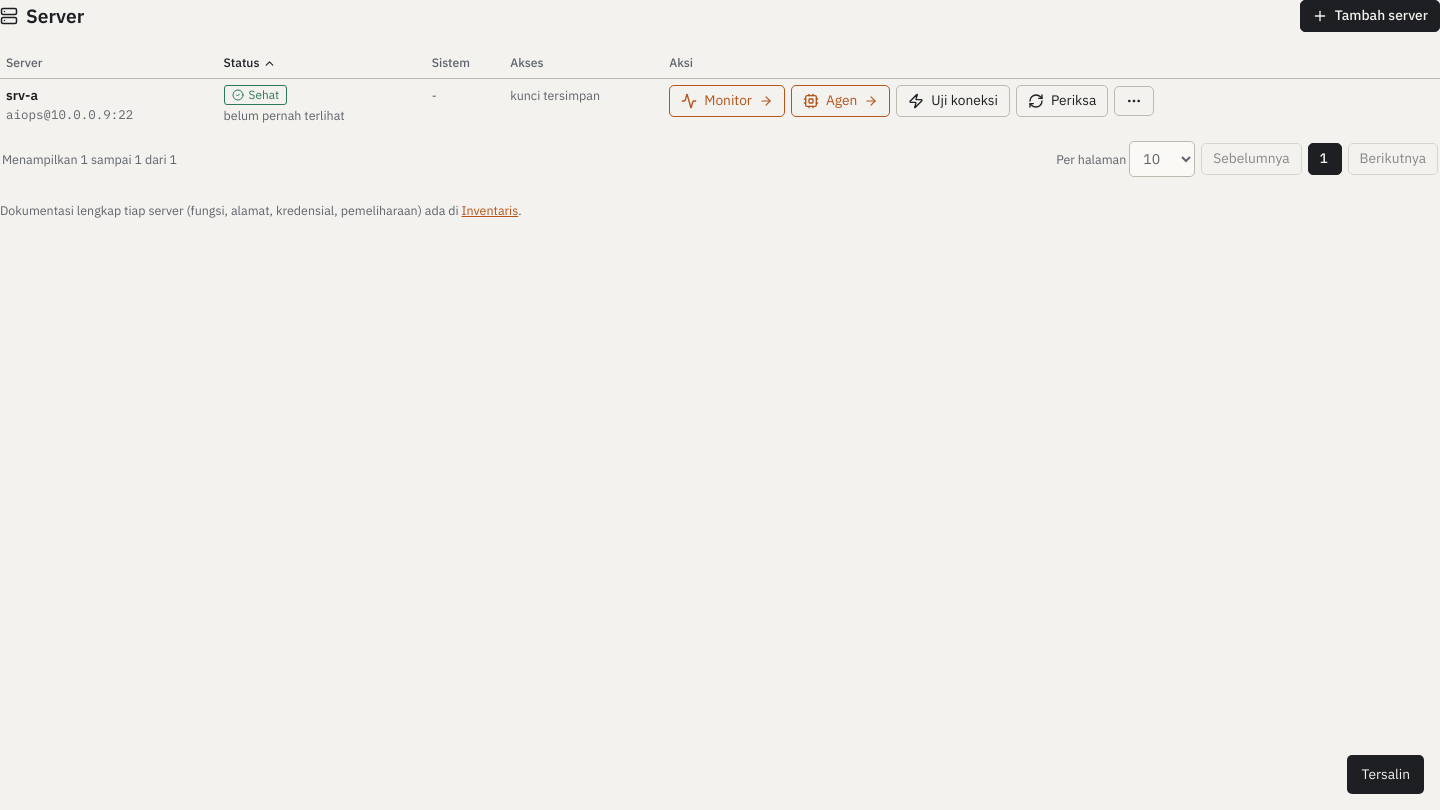
Scenario: uji koneksi gagal › galat yang dikenali menampilkan penyebab dan saran, dan menawarkan panduan
Step 1. Click the button "Uji koneksi" → {"x": 953, "y": 101}, box x1=896 y1=85 x2=1010 y2=117
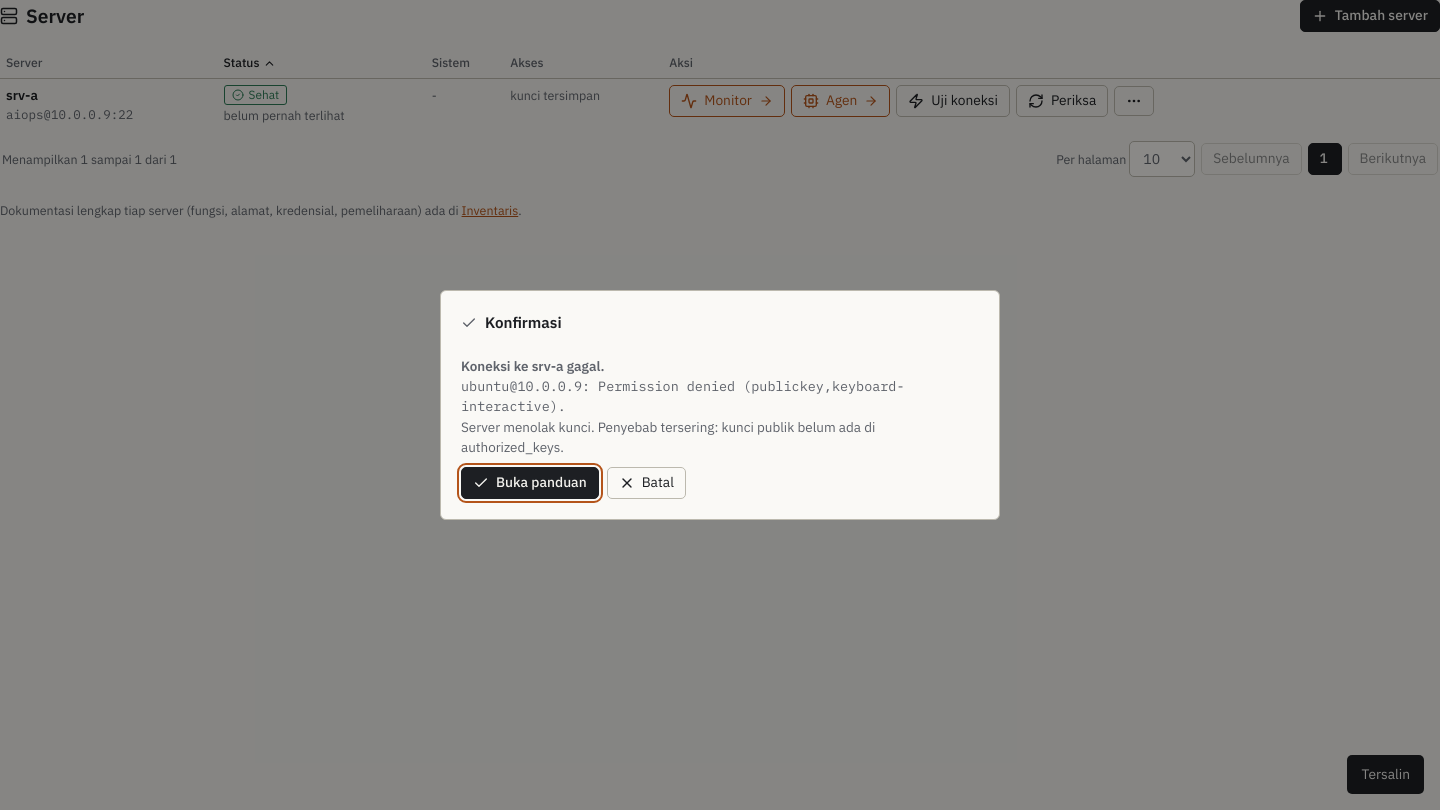
Result: the text "Koneksi ke srv-a gagal." is shown at x1=461 y1=357 x2=604 y2=375
Result: the text "Permission denied (publickey,keyboard-interactive)" is shown at x1=461 y1=377 x2=904 y2=415
Result: the text "Server menolak kunci" is shown at x1=461 y1=418 x2=875 y2=456
